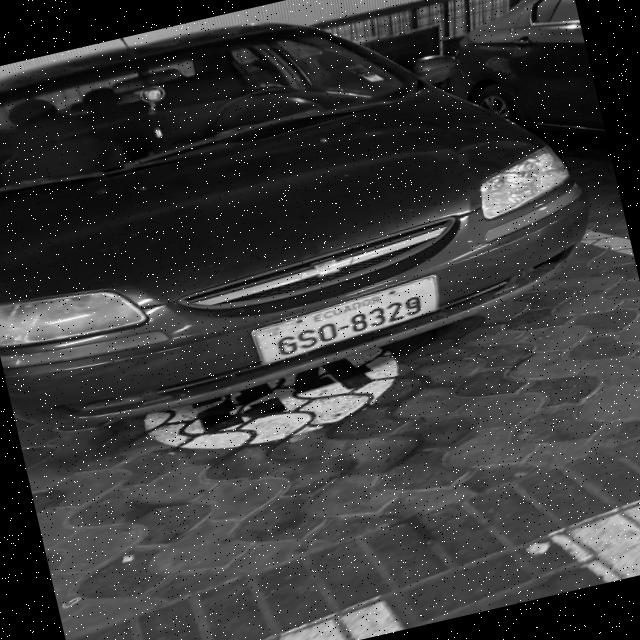Placa: (253, 276, 438, 364)
